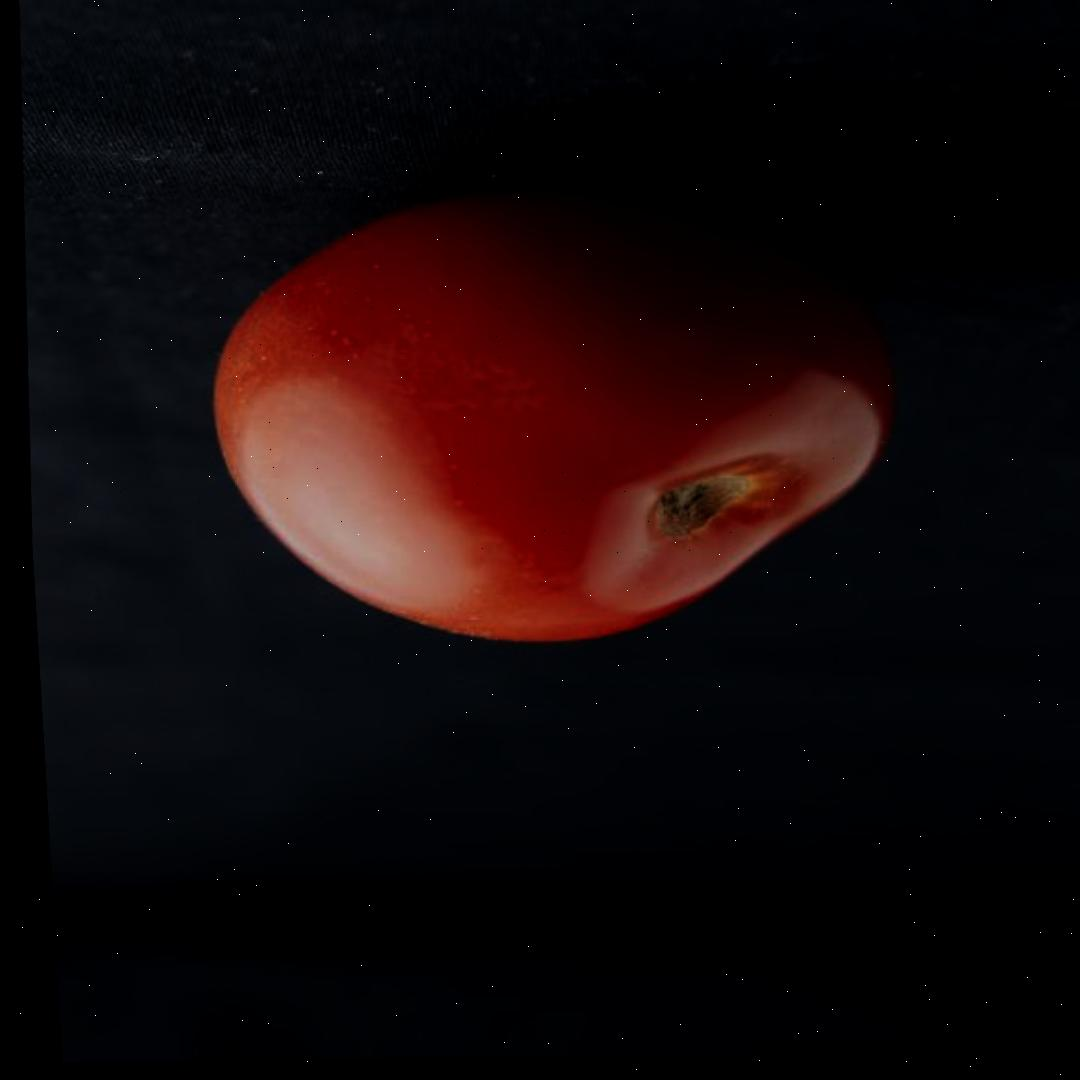matang: (190, 152, 916, 668)
